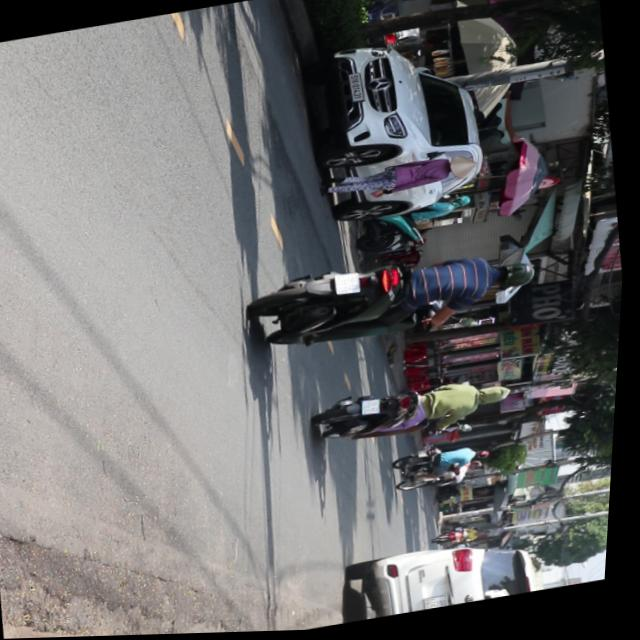helmet: (495, 259, 542, 292), (484, 384, 518, 407)
licenseplate: (249, 236, 548, 360), (317, 370, 521, 452)
nohelmet: (338, 273, 366, 296), (367, 400, 387, 416)
